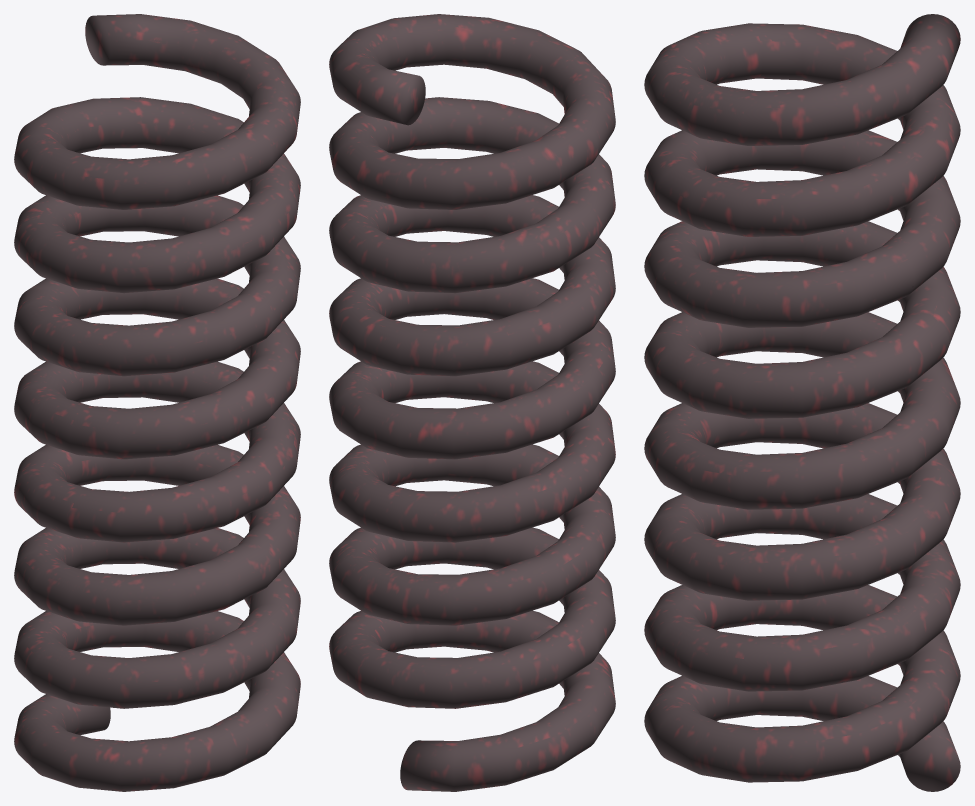
Rendered from spring.glb.
3 renders of one model, left to right at view 1: azimuth 30°, elevation 25°; view 2: azimuth 150°, elevation 25°; view 3: azimuth 270°, elevation 25°, orthographic. The views are drawn at different scales.
Parts seen in each view (by area): view 1: Circle; view 2: Circle; view 3: Circle.
Boxes of the visible parts, left/top/right/bottom form: Circle: left=14, top=14, right=300, bottom=791; Circle: left=329, top=14, right=615, bottom=791; Circle: left=644, top=14, right=960, bottom=791.
Size of the model in its own units: 0.5558 by 1.51 by 0.5558.
Materials: 1 (1 with a texture image).
